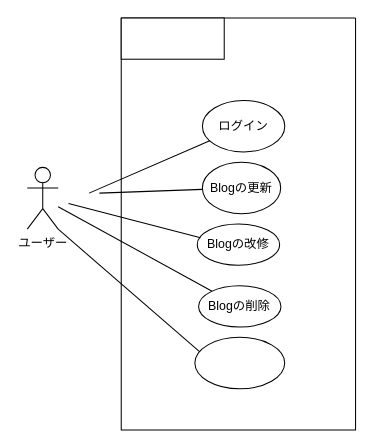
The diagram is 374 pixels wide and 448 high, and some of its shapes have lost their labels. The shapes that lost their labels are listed below. From the top down, each one's centre as x and y in pixels, then its label:
At (x=172, y=38): "Blogの開発".
At (x=239, y=362): "Blogの調べ".
